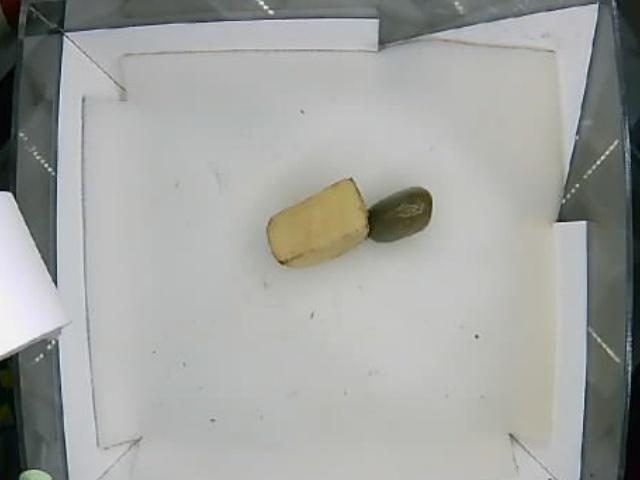Pebble: (366, 187, 434, 245)
Potato: (266, 178, 370, 266)
